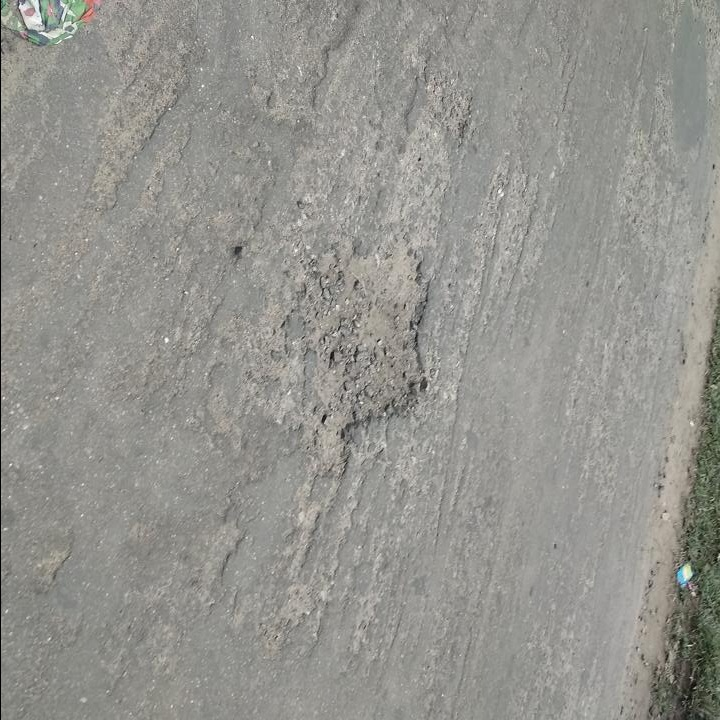pothole: (300, 232, 439, 472)
